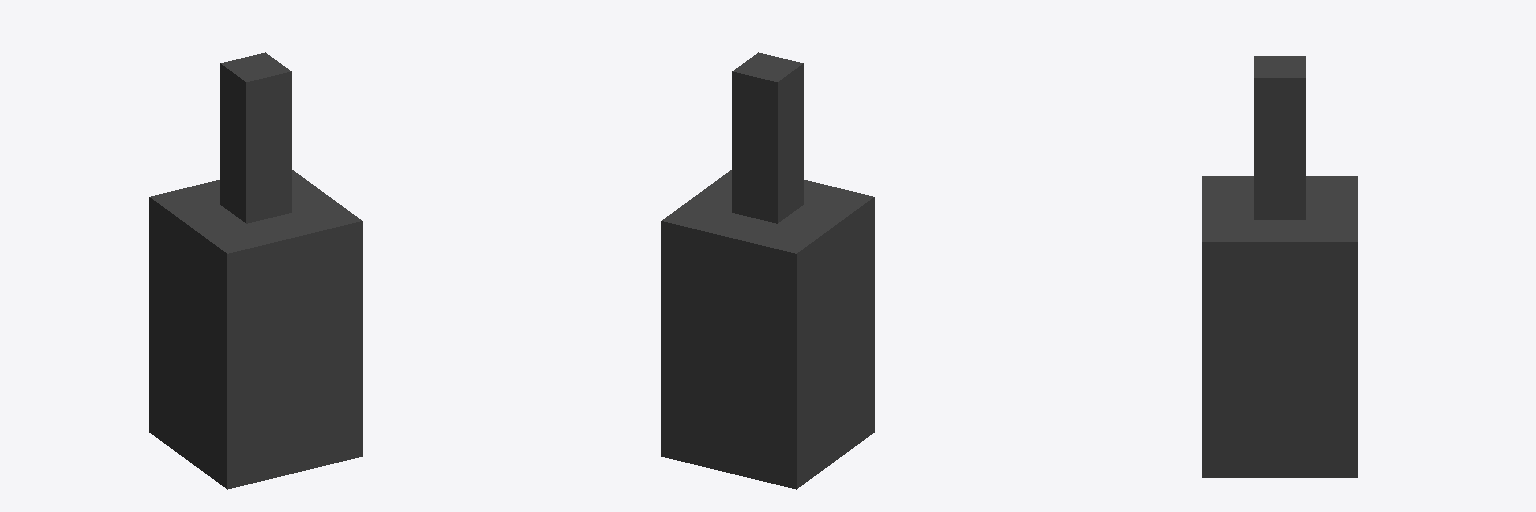
3 renders of one model, left to right at view 1: azimuth 30°, elevation 25°; view 2: azimuth 150°, elevation 25°; view 3: azimuth 270°, elevation 25°, orthographic.
Visible parts, largest first — view 1: object 1; view 2: object 1; view 3: object 1.
Part boxes in pixels (x1,y1,x2,y2): object 1: (149,52,362,489); object 1: (661,52,874,489); object 1: (1202,56,1357,477).
Size of the model in its own units: 0.3 by 0.8 by 0.3.
Materials: 1 (1 with a texture image).